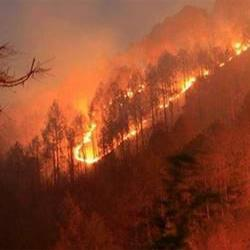fire: (73, 138, 107, 164), (182, 74, 196, 88)
